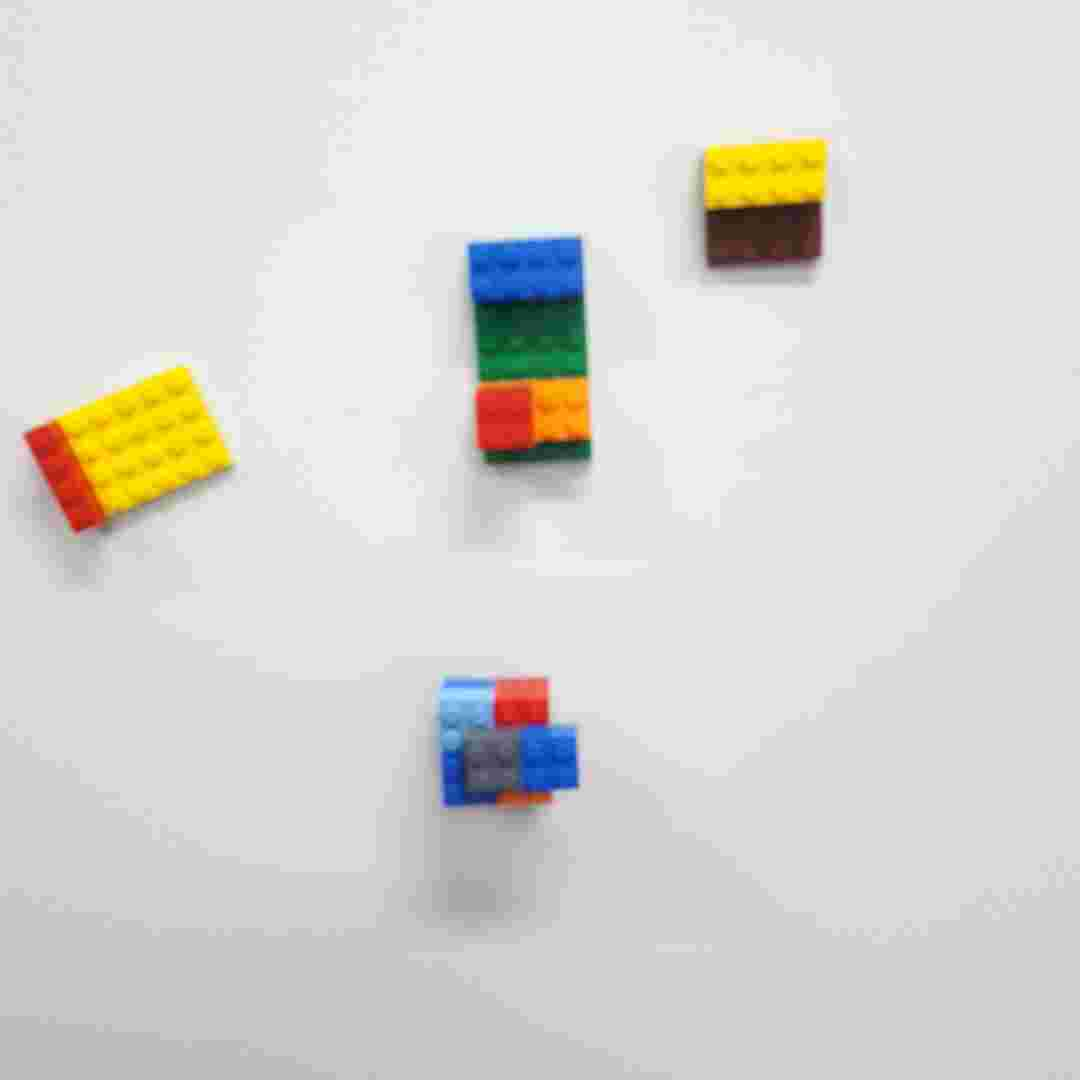LEGO: (14, 360, 249, 544), (460, 233, 602, 466), (436, 668, 594, 816), (696, 134, 828, 278)
